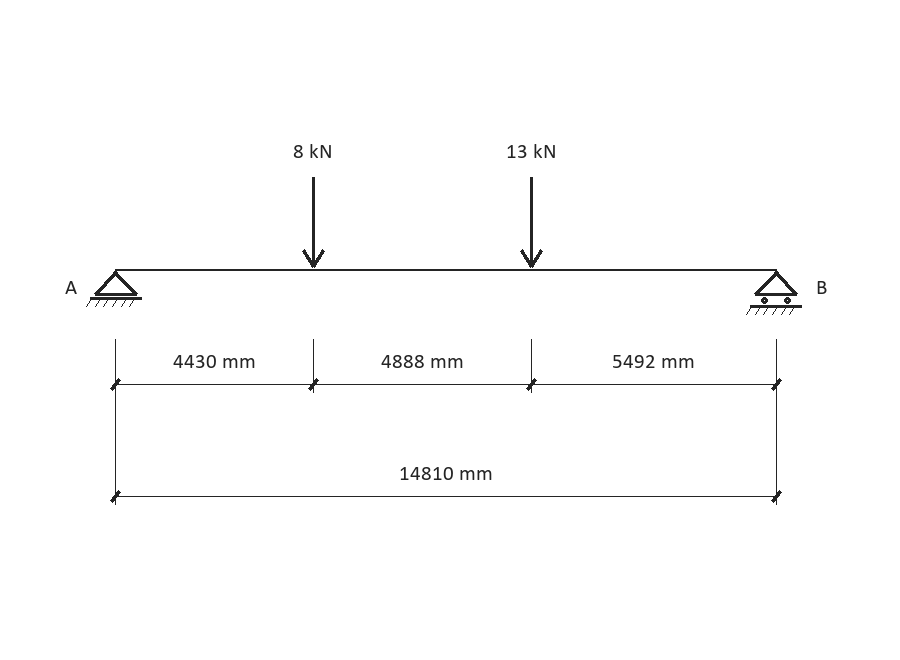pin_support: (86, 271, 142, 307)
point_load: (302, 177, 325, 268), (520, 177, 543, 268)
roller_support: (746, 271, 802, 315)
